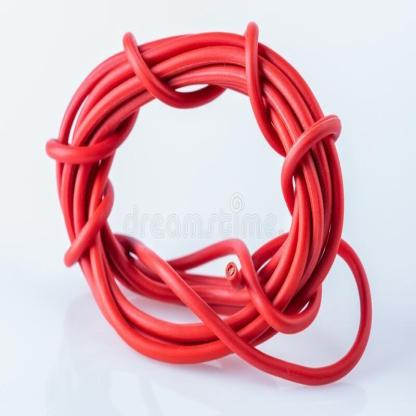wires: (47, 21, 372, 387)
